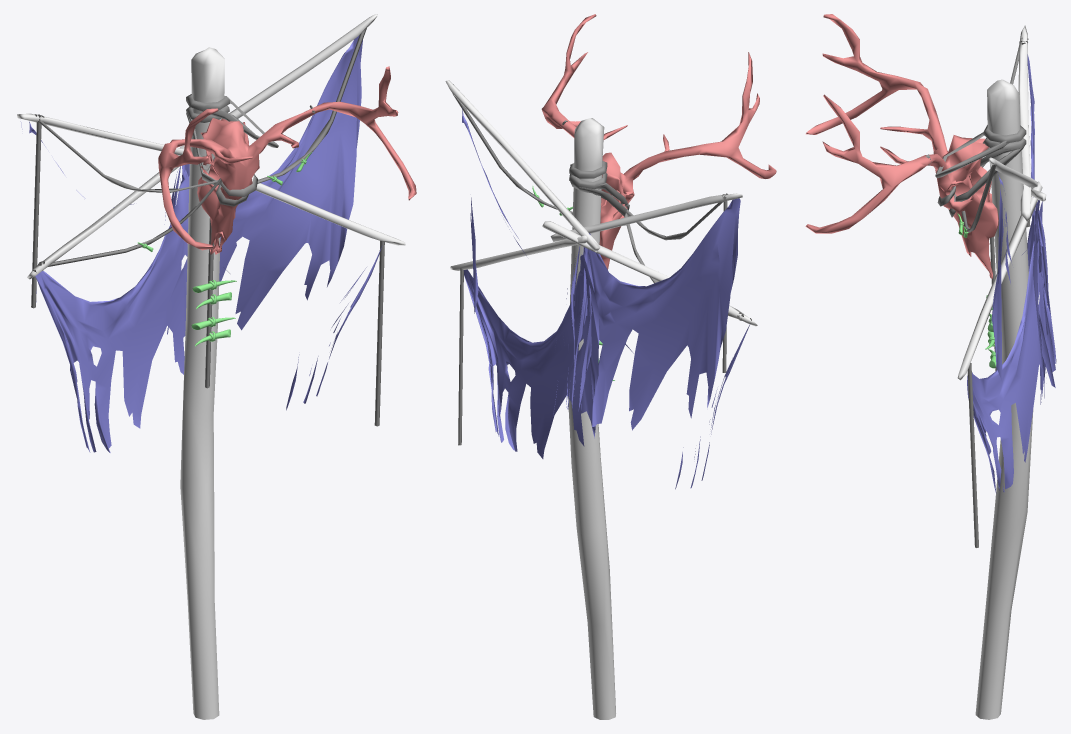
The model's file is totem_wooden_village_generic_A.gltf.
3 views of the same model, side by side, from view 1: azimuth 30°, elevation 25°; view 2: azimuth 150°, elevation 25°; view 3: azimuth 270°, elevation 25° (orthographic). The views are drawn at different scales.
Parts seen in each view (by area): view 1: totem_wooden_village_generic_A; view 2: totem_wooden_village_generic_A; view 3: totem_wooden_village_generic_A.
Part boxes in pixels (x1=…): totem_wooden_village_generic_A: x1=17, y1=14, x2=416, y2=719; totem_wooden_village_generic_A: x1=445, y1=14, x2=776, y2=719; totem_wooden_village_generic_A: x1=805, y1=14, x2=1056, y2=719.
Bounding box in the file's own units: 1.33 × 2.43 × 0.8315.
